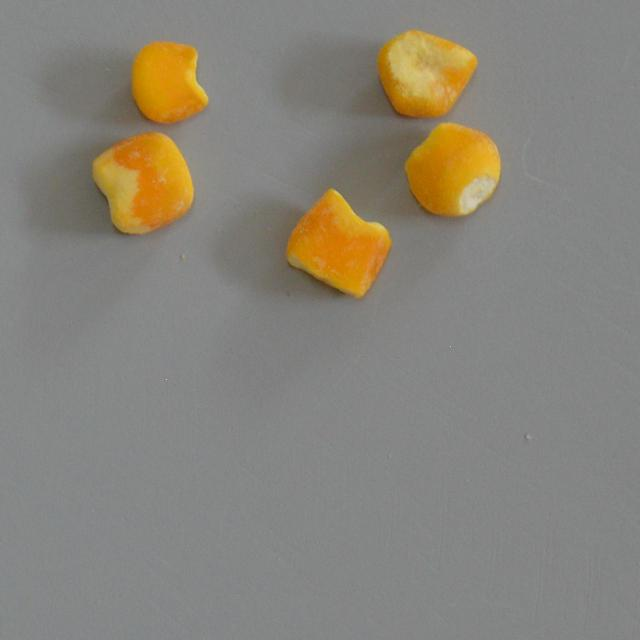pelicula: (284, 186, 393, 298), (92, 130, 194, 235), (403, 118, 500, 218), (376, 30, 477, 118), (130, 40, 208, 124)
